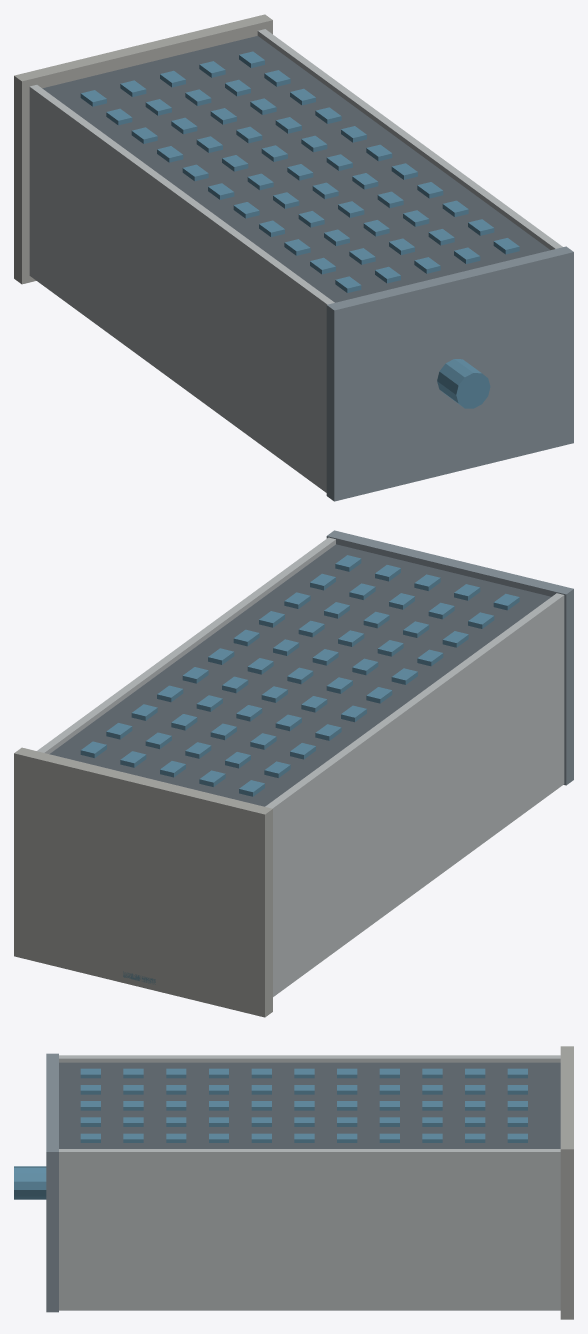
File: AGE_X_residential.glb
3 renders of one model, top to bottom at view 1: azimuth 30°, elevation 25°; view 2: azimuth 150°, elevation 25°; view 3: azimuth 270°, elevation 25°, orthographic. The views are drawn at different scales.
Parts seen in each view (by area): view 1: world; view 2: world; view 3: world.
Part boxes in pixels (box(x1,y1,x2,y2)): world: box(14, 14, 573, 501); world: box(14, 530, 573, 1017); world: box(14, 1046, 573, 1319).
Bounding box in the file's own units: 6.6 × 5.1 × 15.2.
